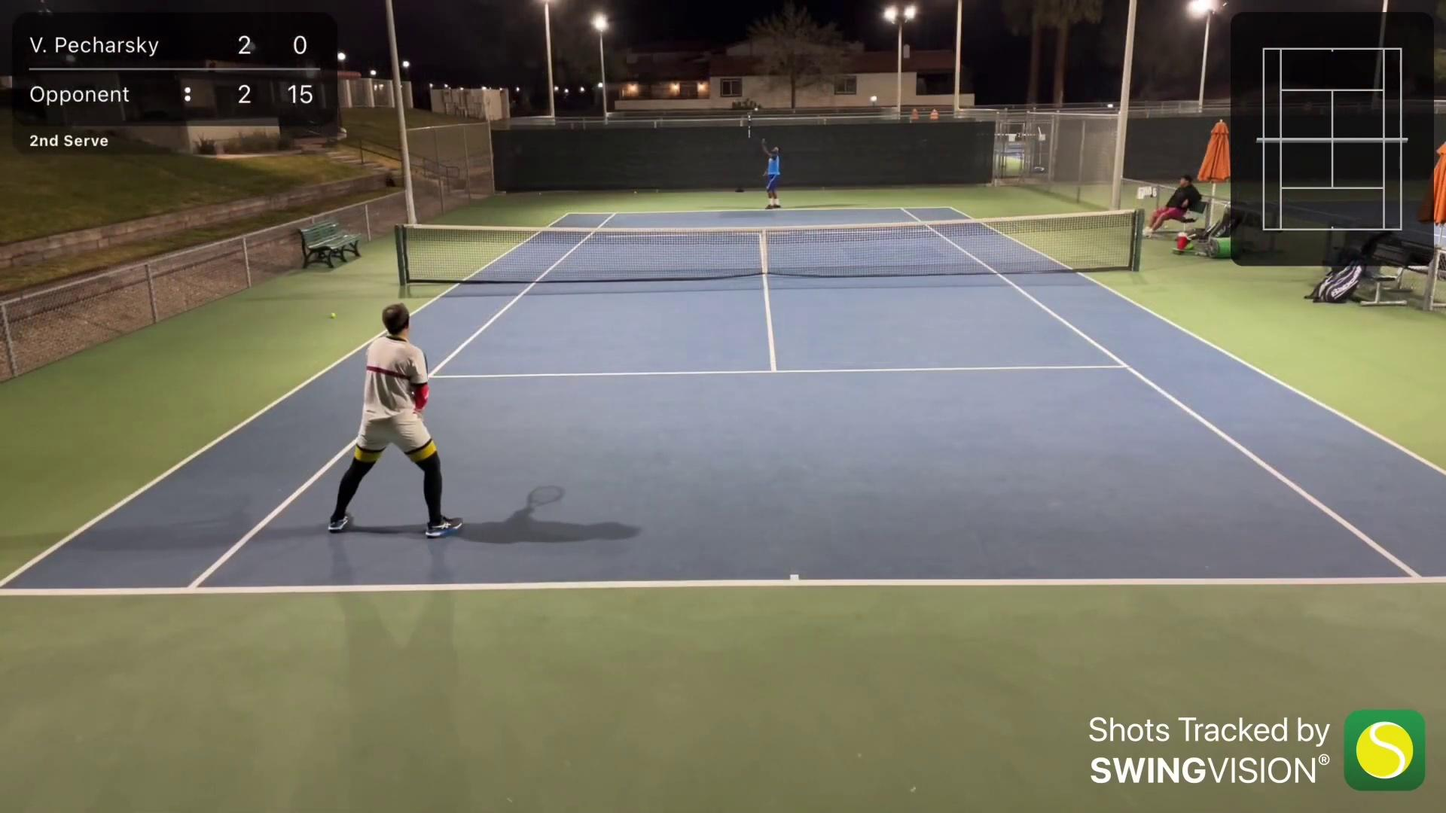ball: (326, 311, 338, 319), (753, 105, 760, 111)
